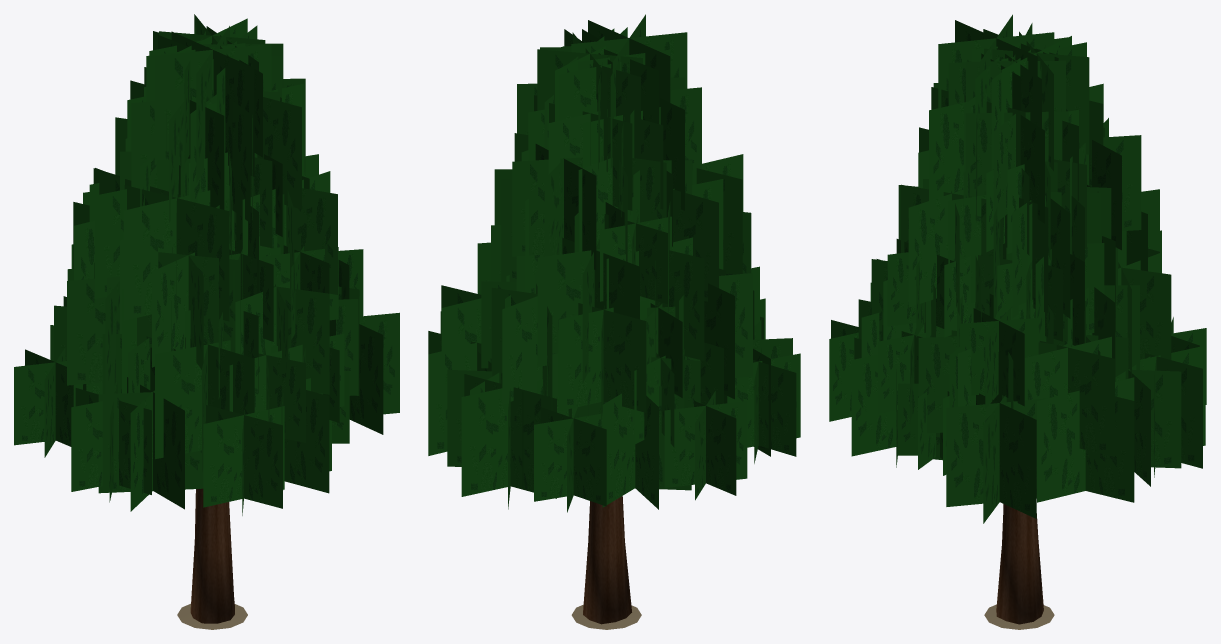
The model's file is pine_tree_a.glb.
3 views of the same model, side by side, from view 1: azimuth 30°, elevation 25°; view 2: azimuth 150°, elevation 25°; view 3: azimuth 270°, elevation 25° (orthographic).
Visible parts, largest first — view 1: pine_tree_a; view 2: pine_tree_a; view 3: pine_tree_a.
Boxes of the visible parts, x1,y1,x2,y2 form: pine_tree_a: [14, 14, 399, 629]; pine_tree_a: [428, 14, 800, 629]; pine_tree_a: [829, 14, 1206, 629].
Size of the model in its own units: 3.47 by 5.69 by 3.41.
Materials: 3 (2 with a texture image).
